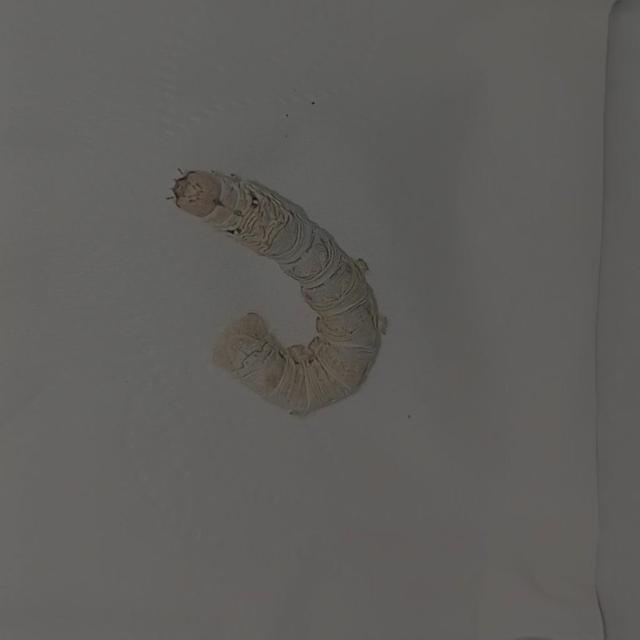Healthy: (149, 141, 413, 439)
